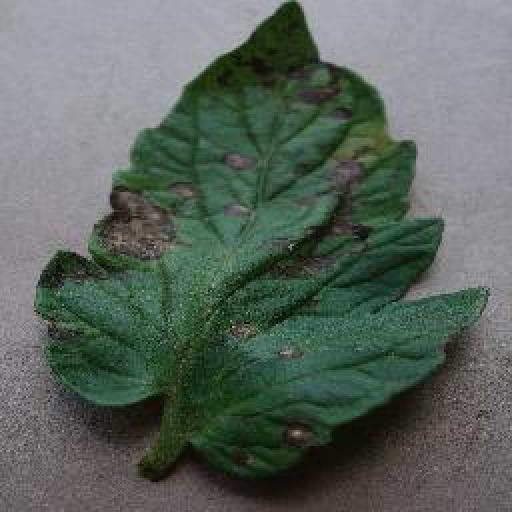Early Blight: (36, 0, 488, 480)
